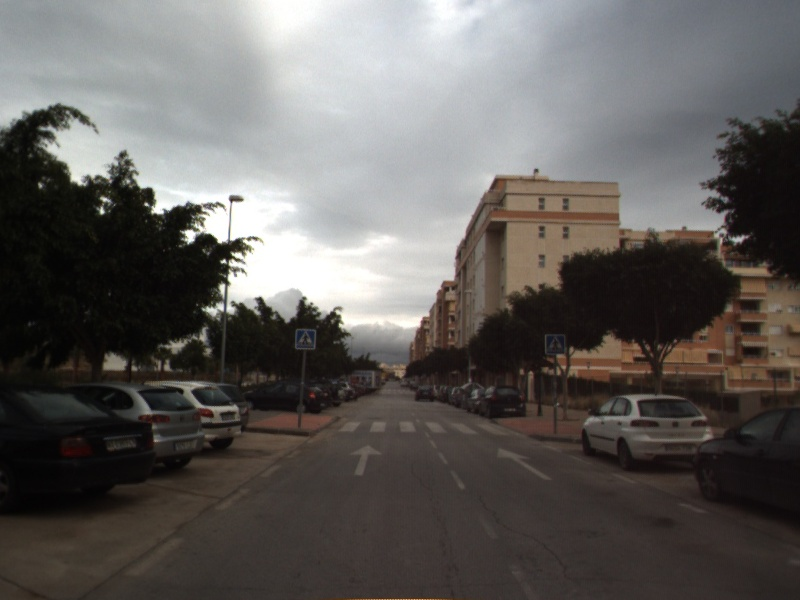STRAIGHT: (495, 446, 554, 482), (347, 442, 385, 477)
